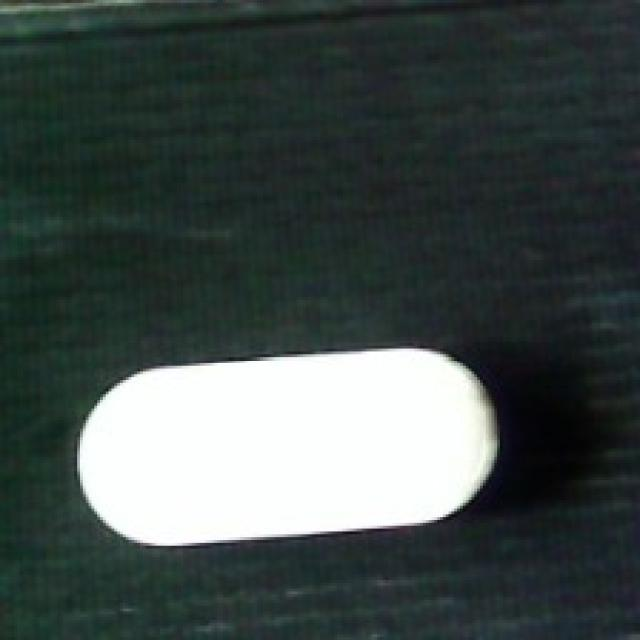no-defect: (68, 346, 503, 546)
